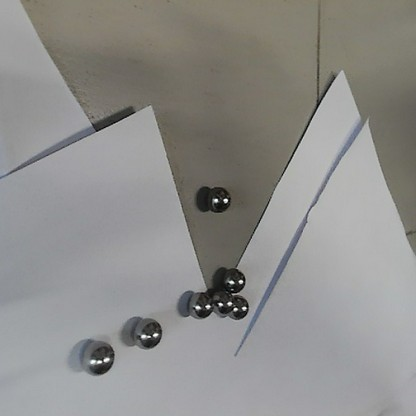ironball: (79, 341, 116, 376), (129, 314, 161, 350), (203, 184, 232, 214), (184, 288, 213, 318), (210, 290, 236, 318), (222, 265, 247, 291), (232, 293, 250, 321)
